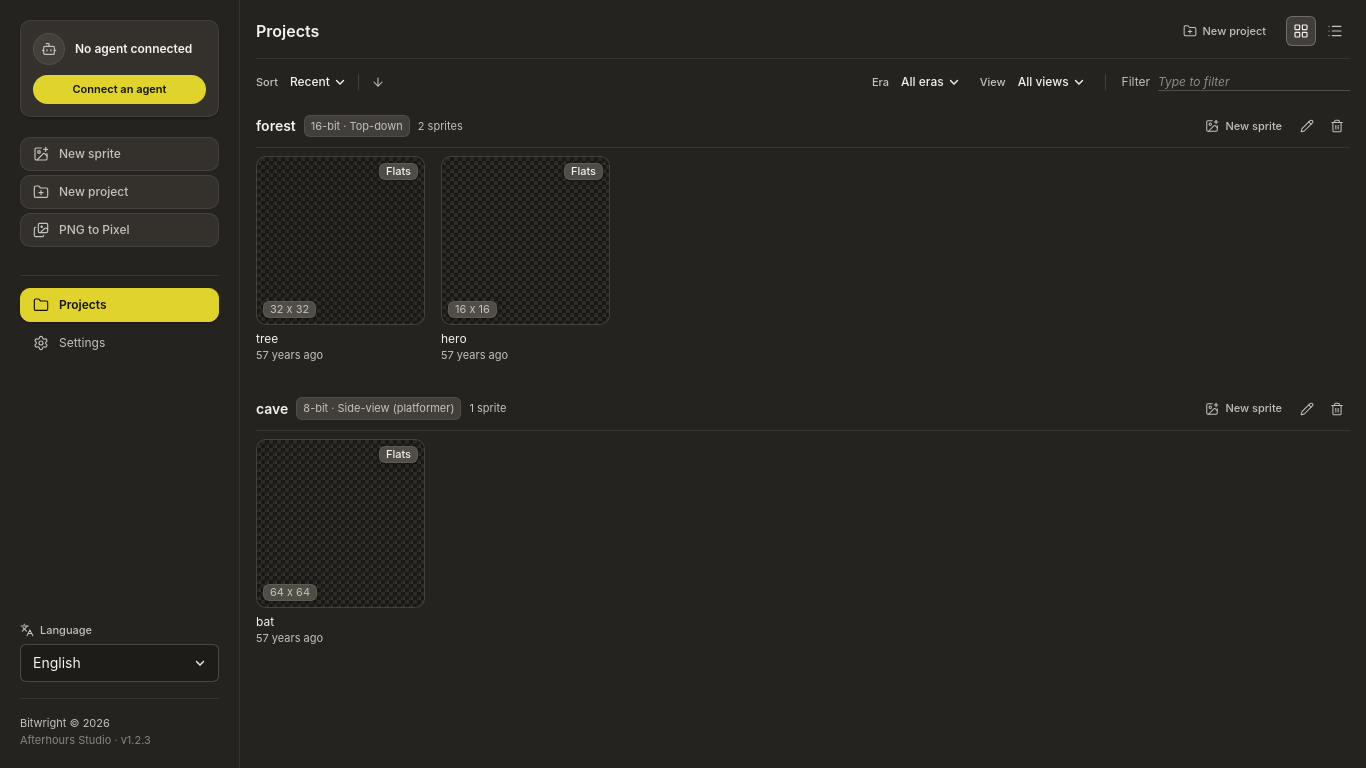
Test: HomeScreen › narrows the list by name and says when nothing matches
expect the button named "Open bat" is shown: met, box [257,440,424,606]
Type "TR" into the search field labelled "Filter" at {"x": 1254, "y": 82}, box [1158,74,1350,90]
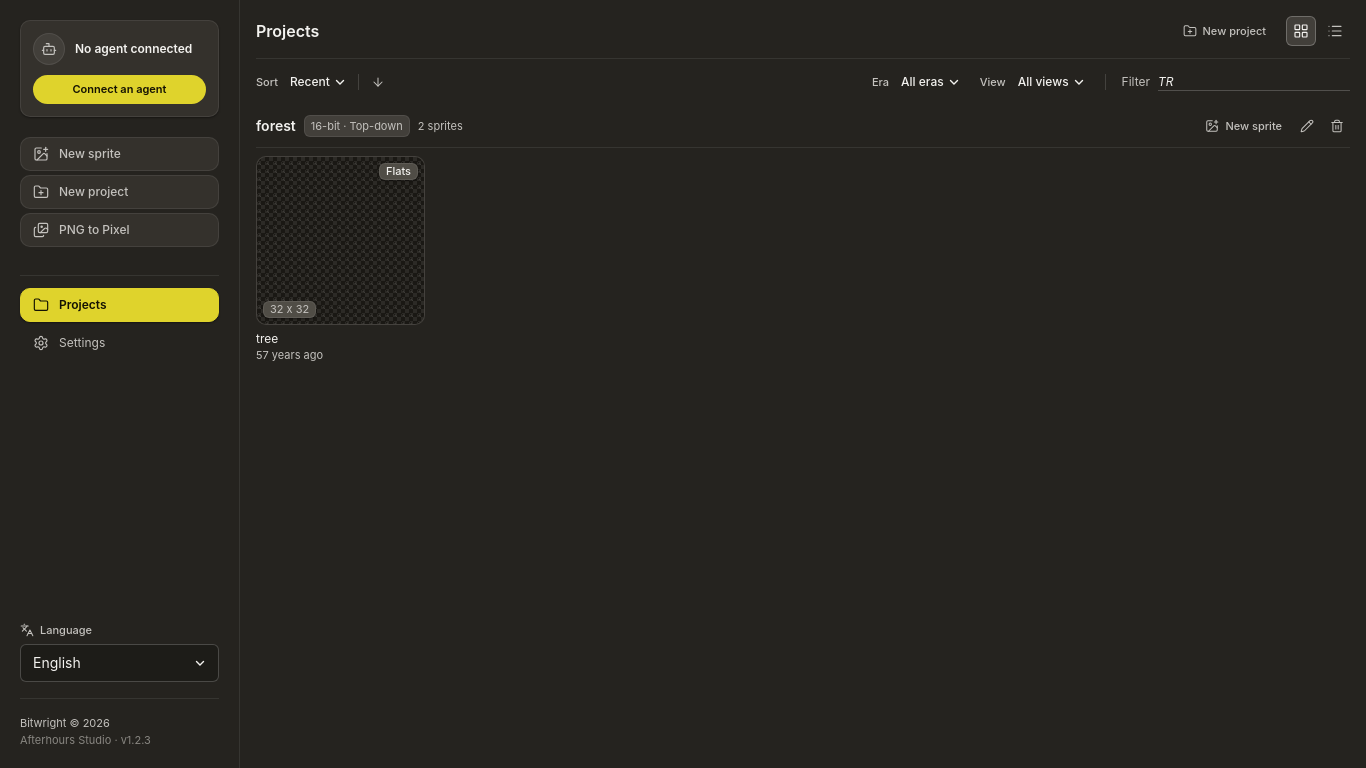
Replace the text in the search field labelled "Filter" with "dragon" at {"x": 1254, "y": 82}, box [1158,74,1350,90]
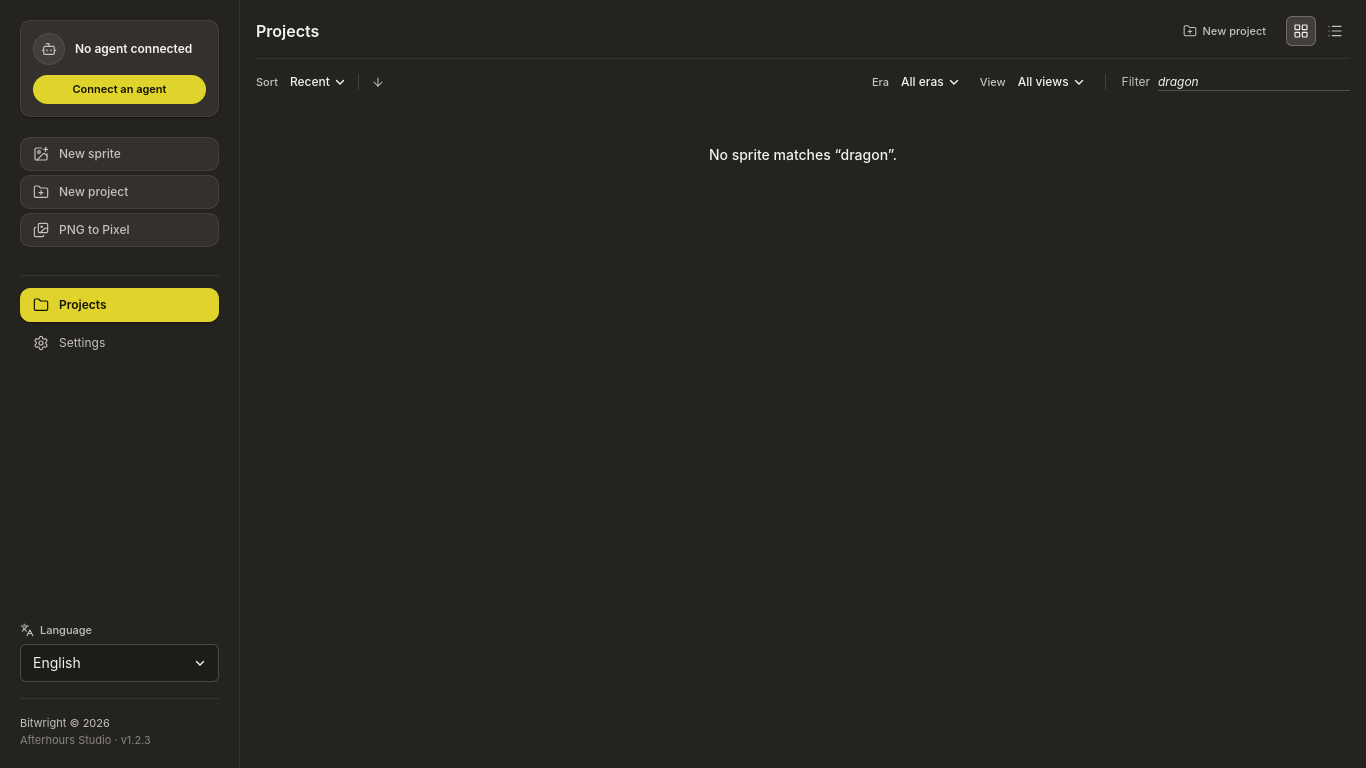
expect the text "No sprite matches “dragon”." is shown: met, box [709,146,897,163]
